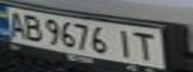6: (87, 24, 112, 55), (57, 19, 75, 48)
7: (72, 20, 93, 52)
9: (39, 16, 63, 46)
A: (3, 8, 30, 38)
B: (18, 11, 45, 43)
I: (112, 27, 139, 60)
T: (130, 29, 163, 62)
